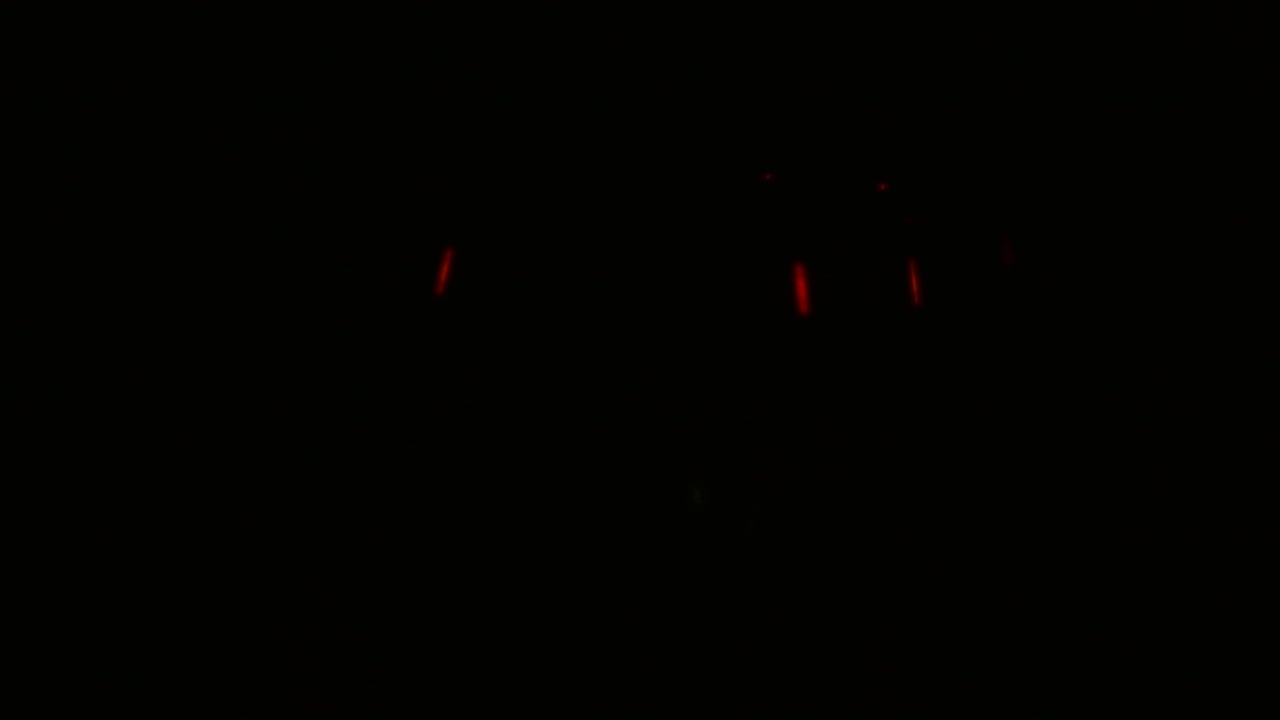pair1: (788, 254, 925, 312)
